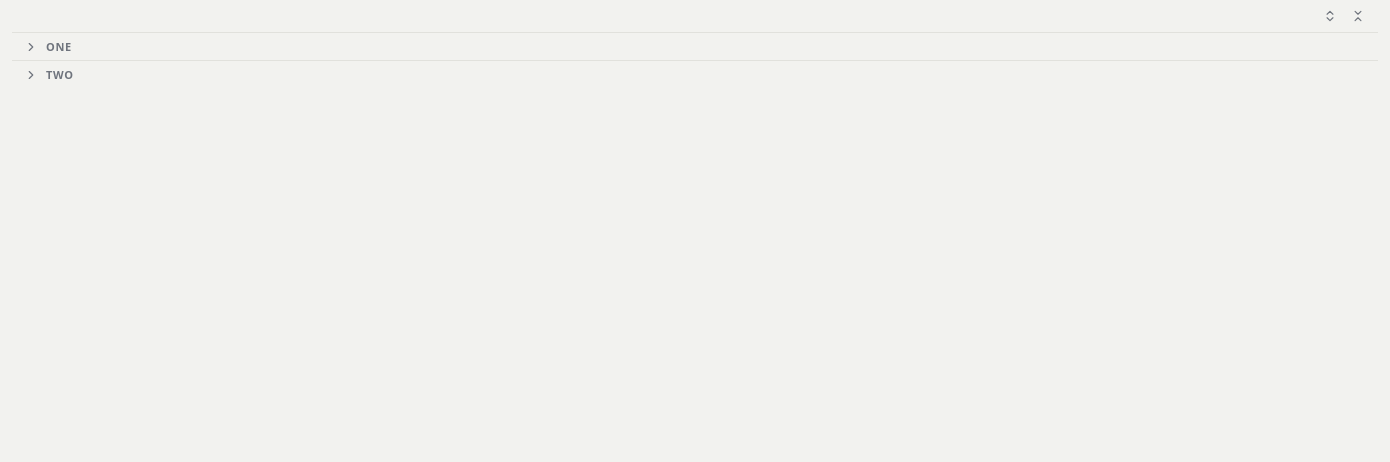
Sidebar › expands every section when Expand all is clicked
The width and height of the screenshot is (1390, 462).
Click the button named "Expand all sections" at (1330, 16), box [1318, 4, 1342, 28]
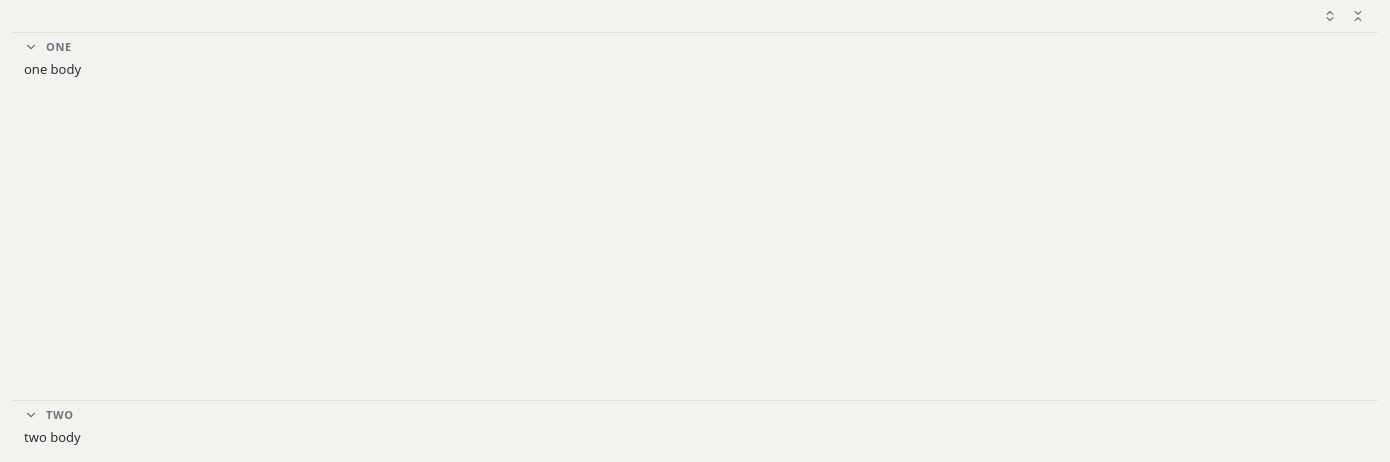
Expected: the button "One" is expanded, [12, 33, 1378, 60]
Expected: the button "Two" is expanded, [12, 401, 1378, 428]
